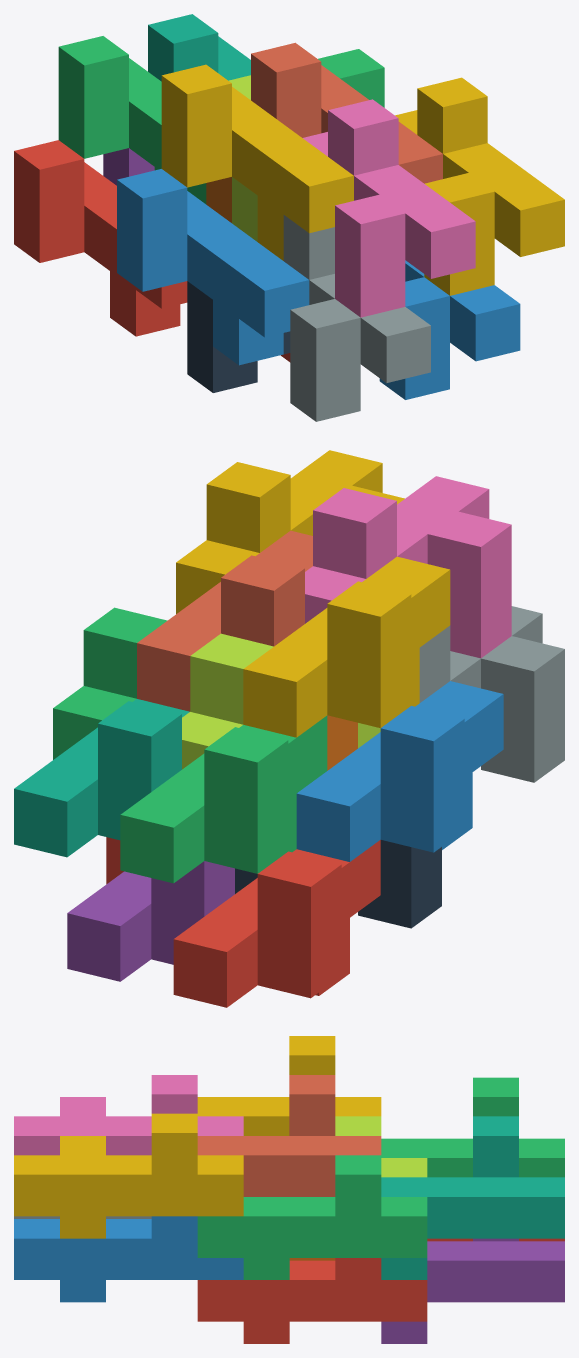
The model's file is tiling.obj.
3 views of the same model, one above another, from view 1: azimuth 30°, elevation 25°; view 2: azimuth 150°, elevation 25°; view 3: azimuth 270°, elevation 25° (orthographic). The views are drawn at different scales.
Visible parts, largest first — view 1: copy_1_domain_2, copy_2_domain_4, copy_1_domain_4, copy_2_domain_8, copy_2_domain_2, copy_1_domain_1, copy_1_domain_3, copy_2_domain_6, copy_1_domain_8, copy_1_domain_7, copy_2_domain_1, copy_2_domain_7 (+3 smaller); view 2: copy_1_domain_2, copy_1_domain_4, copy_1_domain_1, copy_1_domain_3, copy_2_domain_4, copy_1_domain_7, copy_1_domain_8, copy_2_domain_8, copy_2_domain_2, copy_1_domain_5, copy_2_domain_7, copy_2_domain_3 (+2 smaller); view 3: copy_2_domain_8, copy_2_domain_7, copy_1_domain_7, copy_2_domain_5, copy_2_domain_6, copy_1_domain_8, copy_1_domain_5, copy_2_domain_4, copy_1_domain_3, copy_1_domain_4, copy_2_domain_3.
Boxes of the visible parts, x1,y1,x2,y2 form: copy_1_domain_2: (117,169,309,365); copy_2_domain_4: (303,99,475,317); copy_1_domain_4: (161,64,353,260); copy_2_domain_8: (395,77,564,295); copy_2_domain_2: (283,215,430,421); copy_1_domain_1: (14,140,187,336); copy_1_domain_3: (58,36,206,204); copy_2_domain_6: (379,260,520,399); copy_1_domain_8: (251,42,442,183); copy_1_domain_7: (148,14,250,81); copy_2_domain_1: (187,281,290,392); copy_2_domain_7: (318,49,384,107); copy_1_domain_2: (296,681,503,861); copy_1_domain_4: (243,556,450,737); copy_1_domain_1: (173,840,380,1007); copy_1_domain_3: (120,715,327,883); copy_2_domain_4: (305,476,511,658); copy_1_domain_7: (14,699,189,857); copy_1_domain_8: (137,530,312,711); copy_2_domain_8: (176,450,404,613); copy_2_domain_2: (419,606,564,782); copy_1_domain_5: (67,861,234,981); copy_2_domain_7: (53,607,167,759); copy_2_domain_3: (182,633,380,769); copy_2_domain_8: (14,1113,243,1238); copy_2_domain_7: (197,1155,427,1279); copy_1_domain_7: (381,1116,564,1279); copy_2_domain_5: (197,1258,427,1343); copy_2_domain_6: (14,1216,243,1302); copy_1_domain_8: (197,1075,381,1196); copy_1_domain_5: (381,1238,564,1343); copy_2_domain_4: (14,1075,243,1155); copy_1_domain_3: (381,1077,564,1177); copy_1_domain_4: (197,1036,381,1135); copy_2_domain_3: (335,1116,427,1177).
Bounding box in the file's own units: 6 × 6 × 12.
